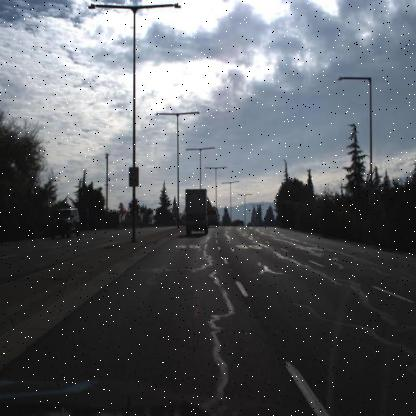car: (50, 207, 80, 240), (206, 207, 218, 228), (238, 217, 245, 228)
truck: (184, 188, 208, 234)
